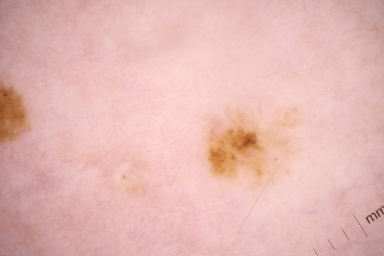nevus: (206, 128, 267, 177)
